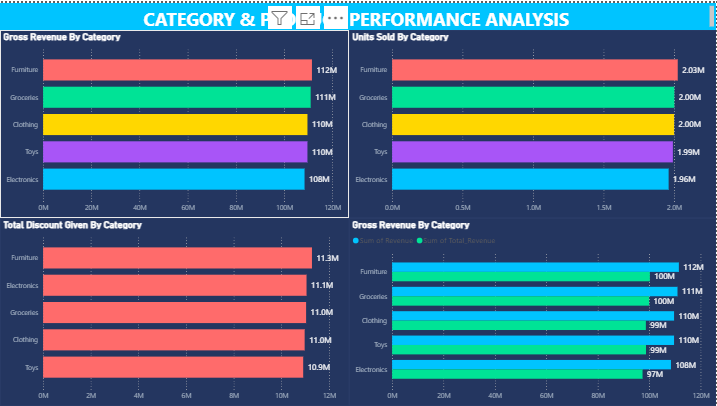

The page's visual inventory and layout, read from the dashboard file:
{"tool":"powerbi","page":{"name":"Category & Product Analysis","canvas":[1280,720],"ordinal":1},"visuals":[{"type":"textbox","box":[0,0,1280,50],"z":0},{"type":"clusteredBarChart","title":"Gross Revenue By Category","fields":{"Category":["cleaned_sales_data.Category"],"Y":["Sum(cleaned_sales_data.Revenue)"]},"box":[0,48,624,336],"z":1000},{"type":"clusteredBarChart","title":"Units Sold By Category","fields":{"Category":["cleaned_sales_data.Category"],"Y":["Sum(cleaned_sales_data.Units Sold)"]},"box":[624,48,656,336],"z":2000},{"type":"clusteredBarChart","title":"Total Discount Given By Category","fields":{"Category":["cleaned_sales_data.Category"],"Y":["Sum(cleaned_sales_data.Discount_Amount)"]},"box":[0,384,624,336],"z":3000},{"type":"clusteredBarChart","title":"Gross Revenue By Category","fields":{"Category":["cleaned_sales_data.Category"],"Y":["Sum(cleaned_sales_data.Revenue)","Sum(cleaned_sales_data.Total_Revenue)"]},"box":[624,384,656,336],"z":4000}]}

Visuals, with their boxes on the page's 1280x720 design canvas (x1, y1, x2, y2). These are canvas units, not pixel positions in the 717x406 screenshot, which may show the page scaled, cropped or inside an application window:
textbox: bbox=(0, 0, 1280, 50)
"Gross Revenue By Category" clusteredBarChart: bbox=(0, 48, 624, 384)
"Units Sold By Category" clusteredBarChart: bbox=(624, 48, 1280, 384)
"Total Discount Given By Category" clusteredBarChart: bbox=(0, 384, 624, 720)
"Gross Revenue By Category" clusteredBarChart: bbox=(624, 384, 1280, 720)
